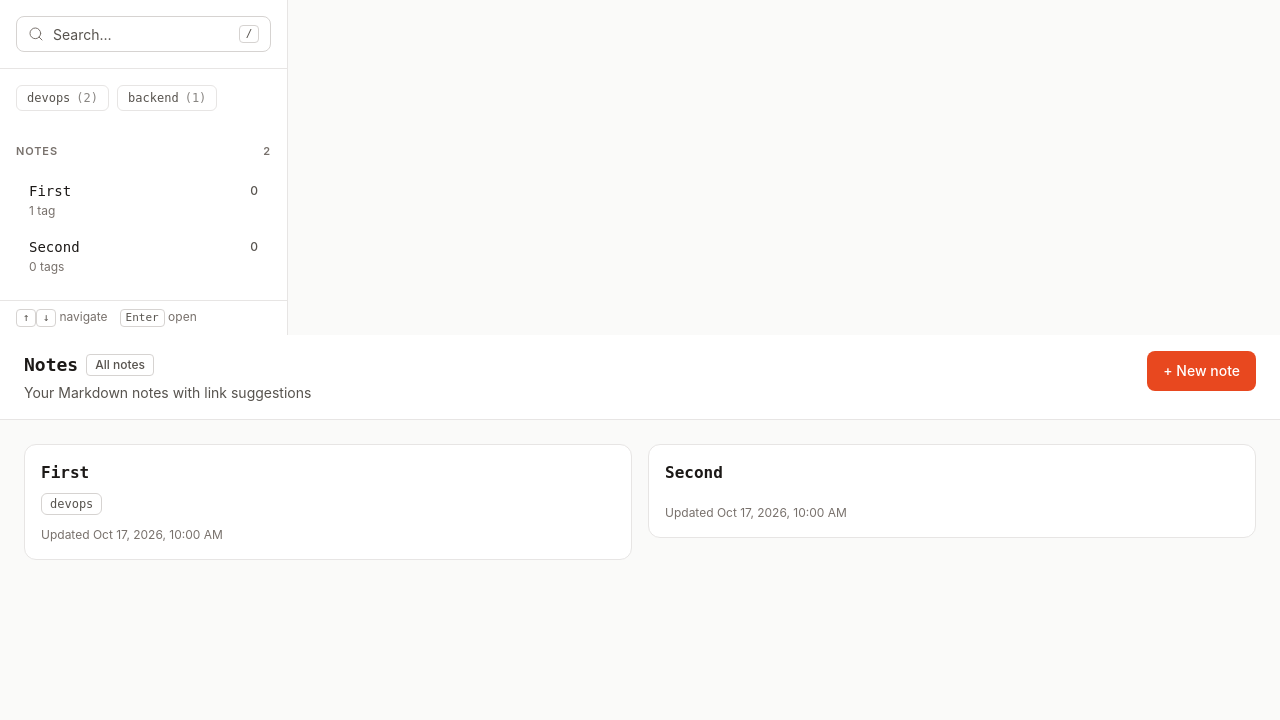
Test case: NotesBrowser › searches after a pause using the search endpoint, and says when nothing matches
The width and height of the screenshot is (1280, 720).
Expected: the list named "Notes" is shown, left=24, top=444, right=1256, bottom=560
Type "kubernetes" into the search field named "Search notes".
click(144, 34); type("kubernetes")  # box left=16, top=16, right=271, bottom=52
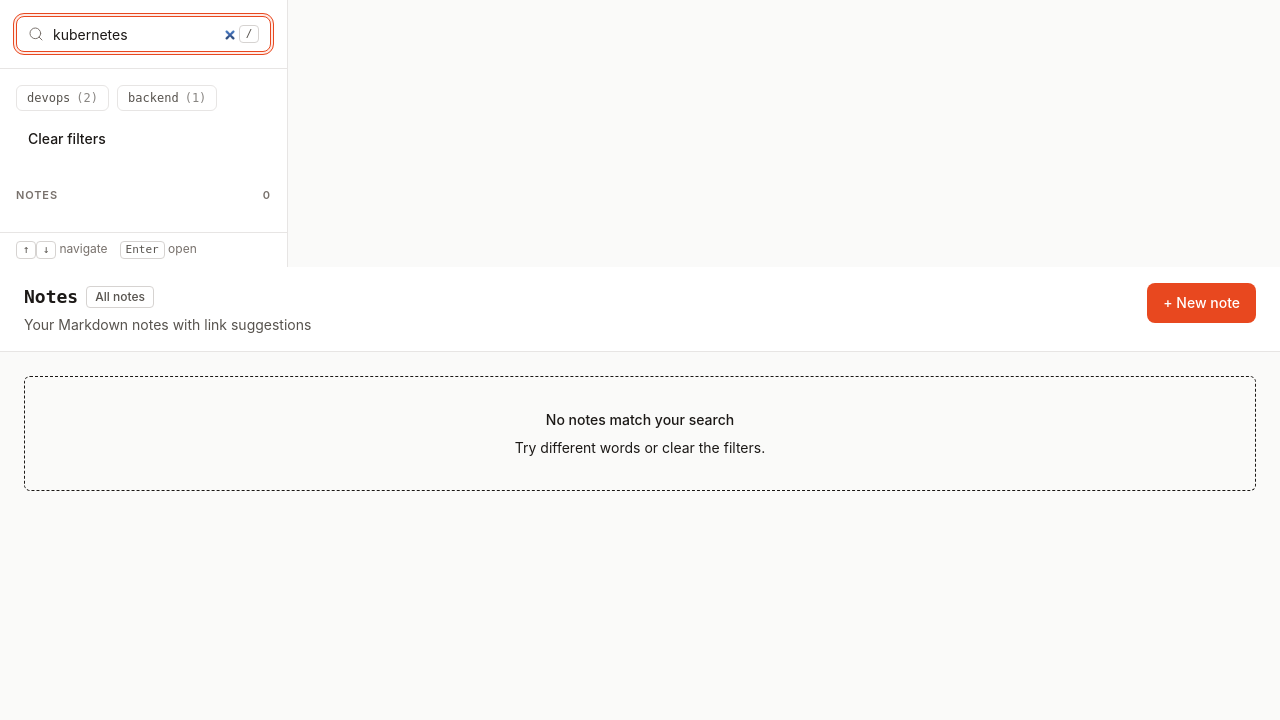
Expected: the text "No notes match your search" is shown, left=546, top=411, right=734, bottom=428
